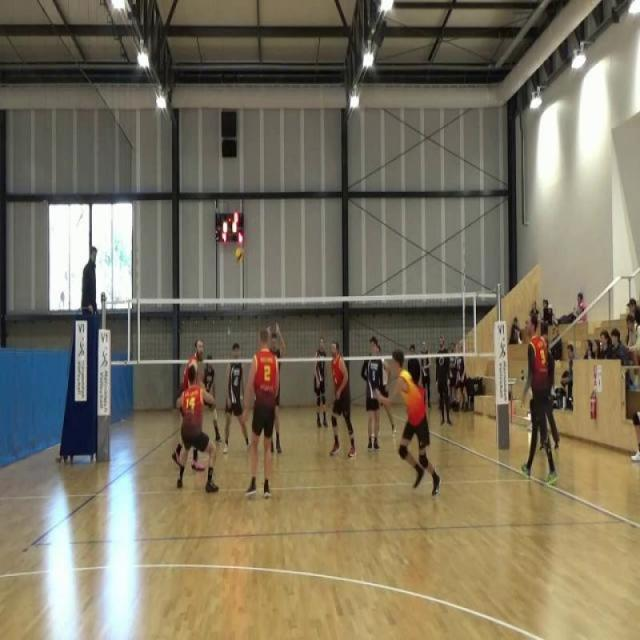volleyball: (234, 245, 246, 266)
